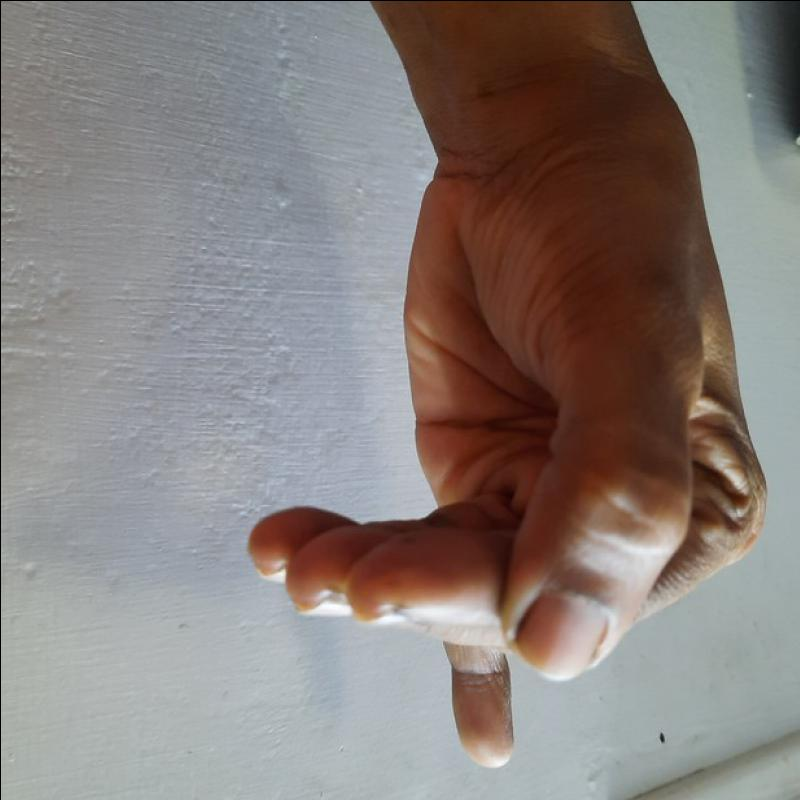Kartharee Mukham: (234, 93, 772, 773)
